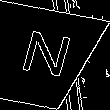N_S: (11, 28, 73, 87)
